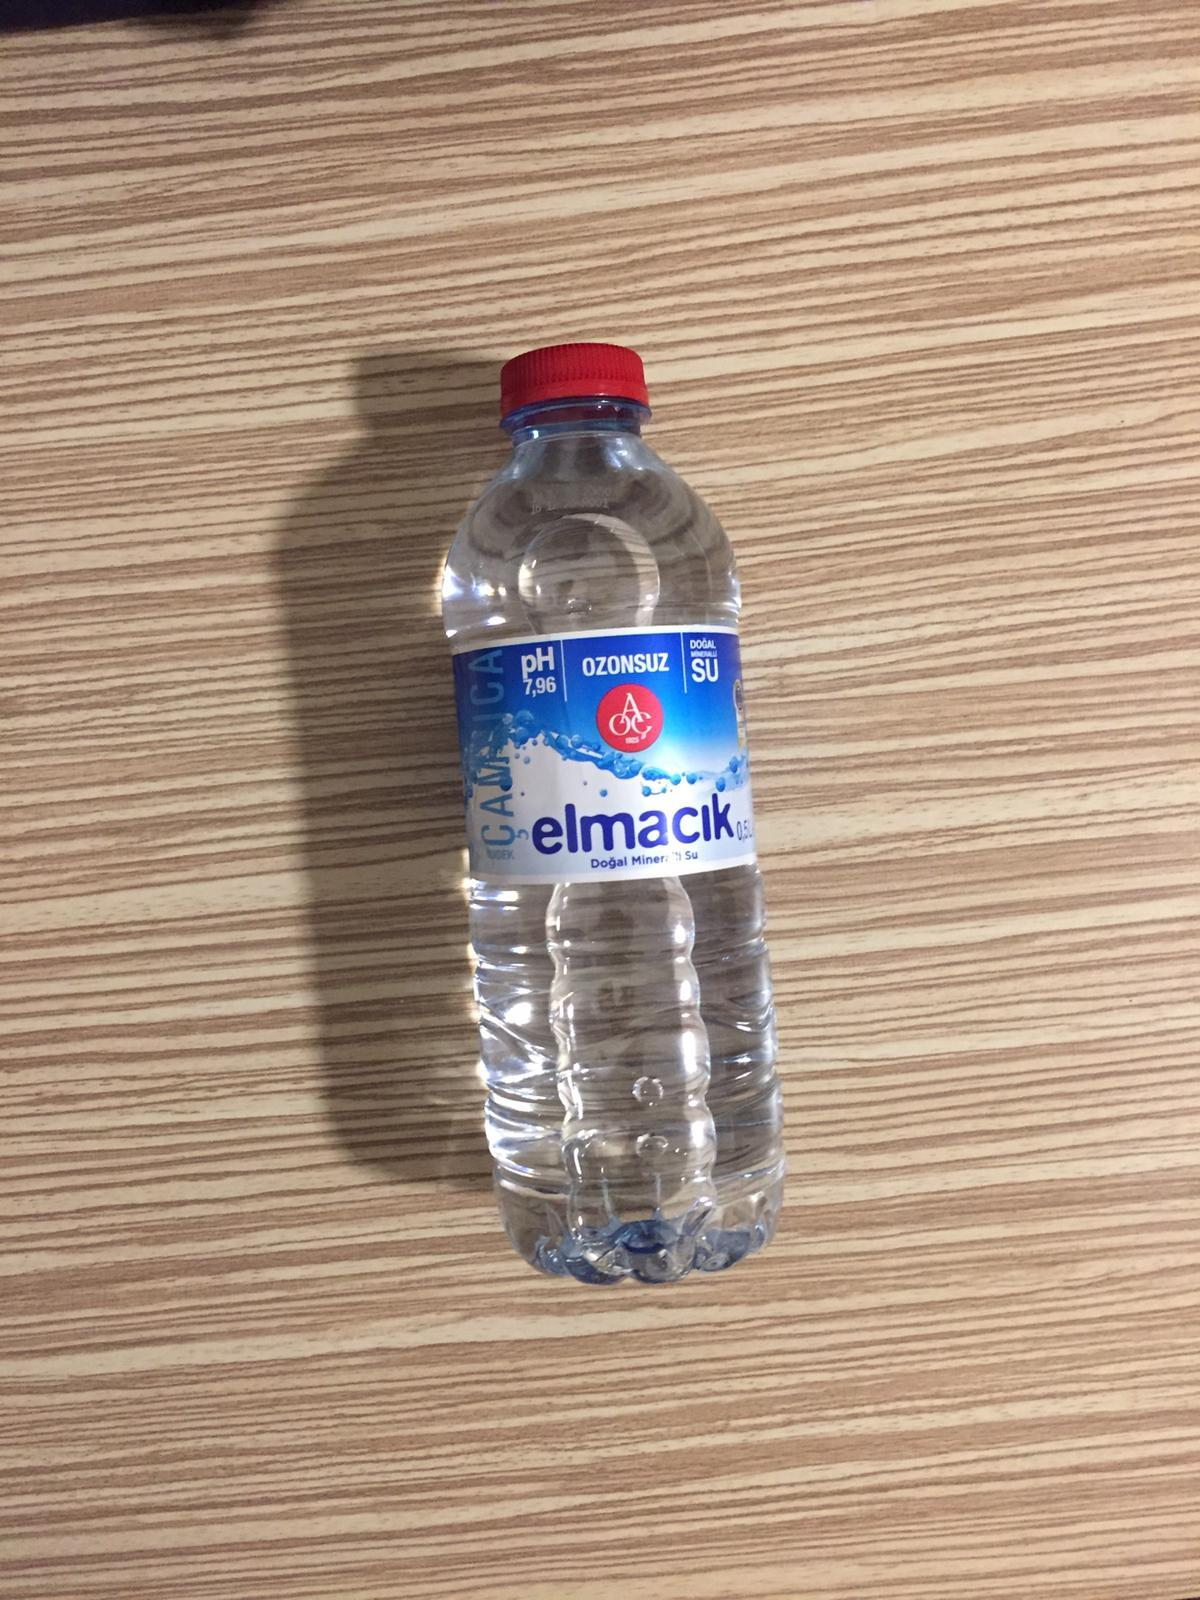bottle: (437, 340, 776, 1291)
